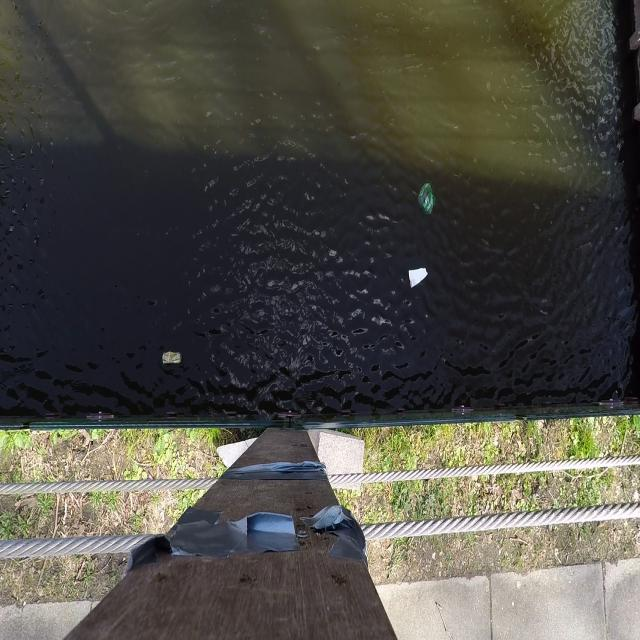Autre plastique: (404, 260, 432, 294)
Non plastique: (158, 346, 187, 373)
Sac plastique: (415, 179, 437, 214)
